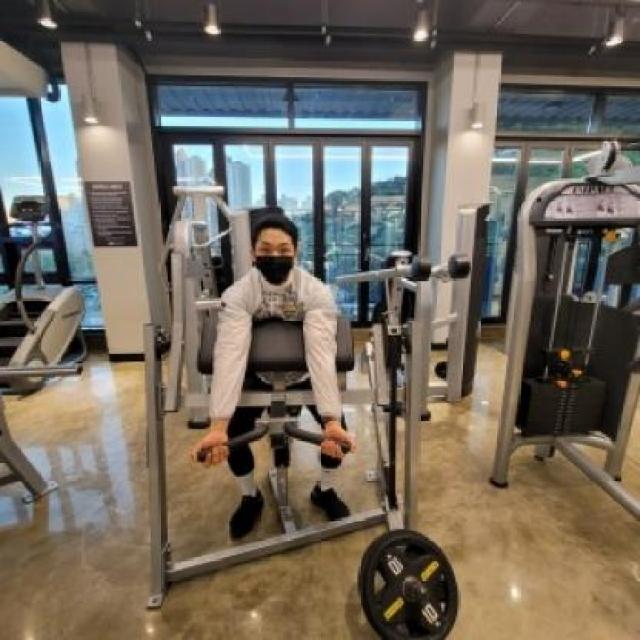arm curl machine: (142, 308, 428, 530)
